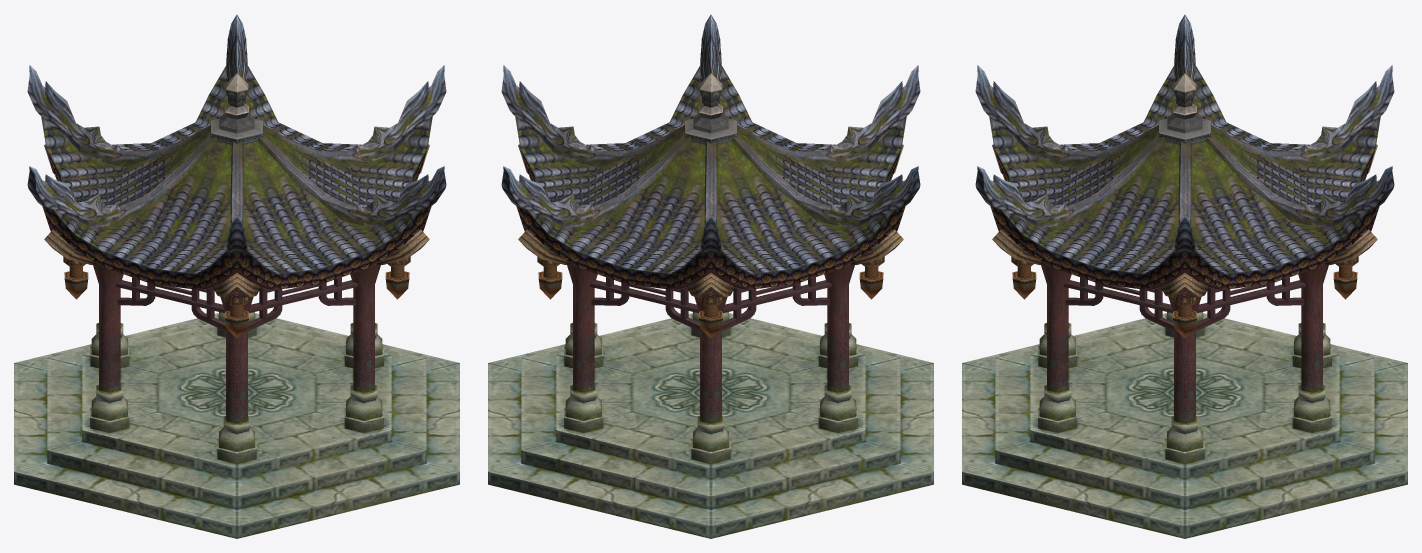
File: NX-E-Bishan-Liangting01.FBX
The picture shows the model from 3 angles, left to right: view 1: azimuth 30°, elevation 25°; view 2: azimuth 150°, elevation 25°; view 3: azimuth 270°, elevation 25°; orthographic projection.
Parts seen in each view (by area): view 1: Object008; view 2: Object008; view 3: Object008.
Part boxes in pixels (box(x1,y1,x2,y2)): Object008: box(14, 14, 459, 538); Object008: box(488, 14, 933, 538); Object008: box(962, 14, 1407, 538).
Bounding box in the file's own units: 681 × 522 × 590.
